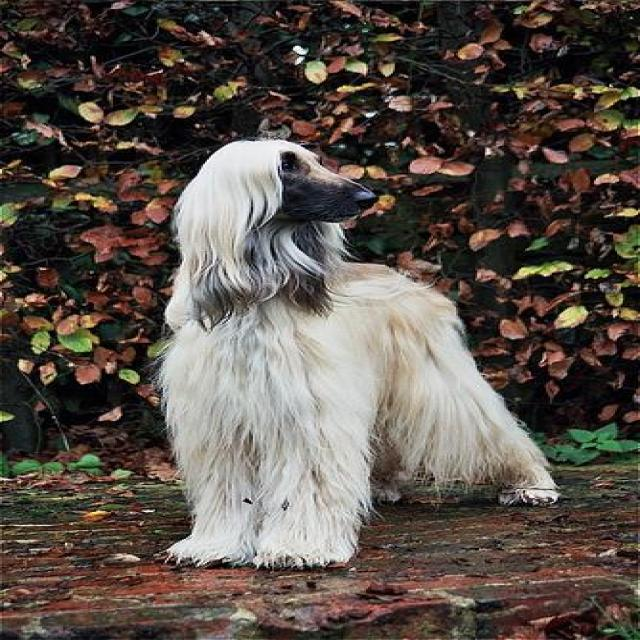afghan_hound: (140, 132, 565, 572)
